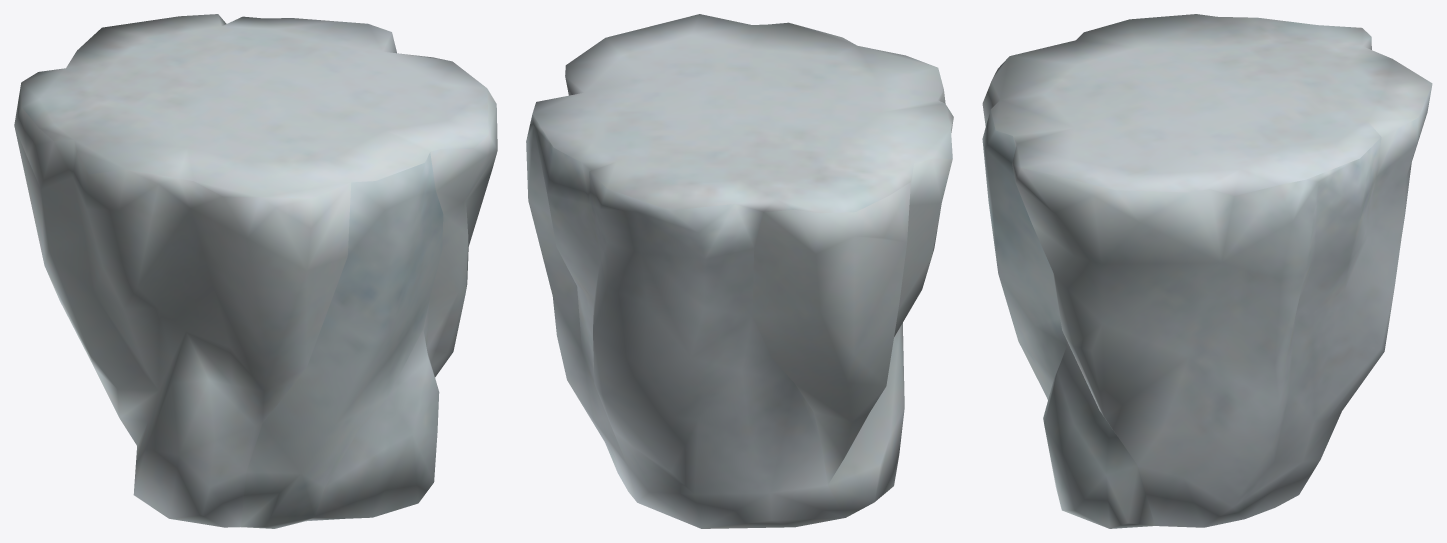
Rendered from P_CliffClassic2.obj.
3 views of the same model, side by side, from view 1: azimuth 30°, elevation 25°; view 2: azimuth 150°, elevation 25°; view 3: azimuth 270°, elevation 25° (orthographic).
Bounding box in the file's own units: 48.56 × 46.55 × 50.29.
